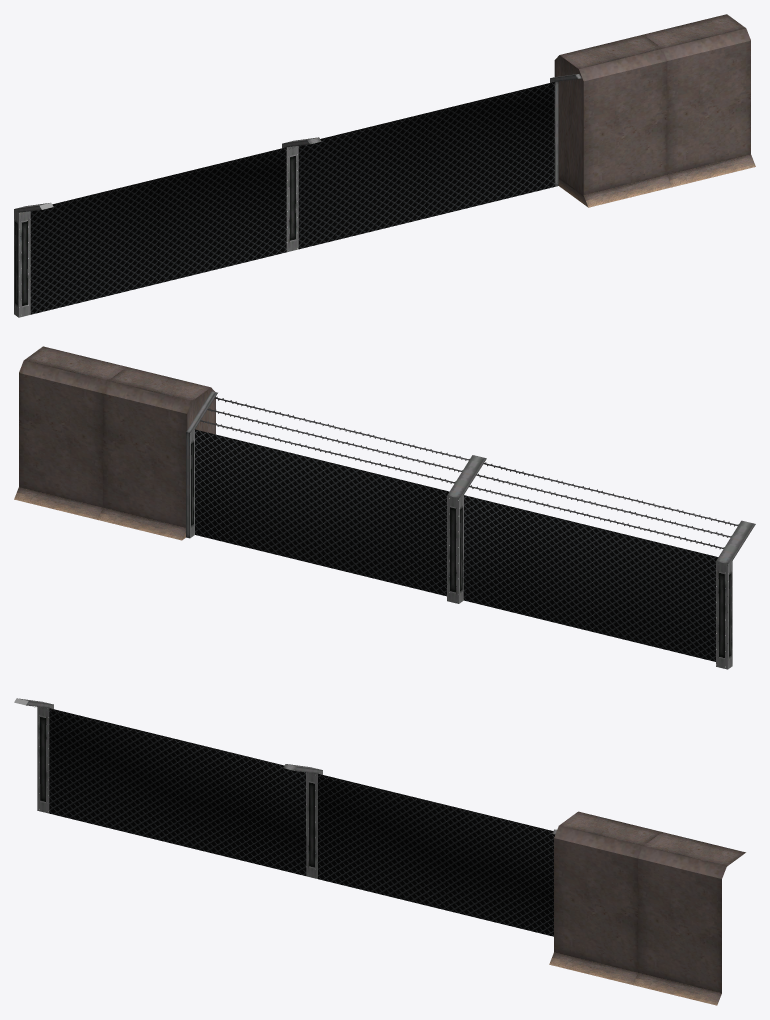
File: Mission1_FenceB.glb
3 renders of one model, top to bottom at view 1: azimuth 30°, elevation 25°; view 2: azimuth 150°, elevation 25°; view 3: azimuth 330°, elevation 25°, orthographic.
Visible parts, largest first — view 1: MISSION1_FENCEB; view 2: MISSION1_FENCEB; view 3: MISSION1_FENCEB.
Part boxes in pixels (<box>): MISSION1_FENCEB: <box>14,14,755,317</box>; MISSION1_FENCEB: <box>14,346,755,669</box>; MISSION1_FENCEB: <box>14,698,745,1005</box>.
Bounding box in the file's own units: 21.12 × 3.75 × 2.
Materials: 8 (7 with a texture image).
